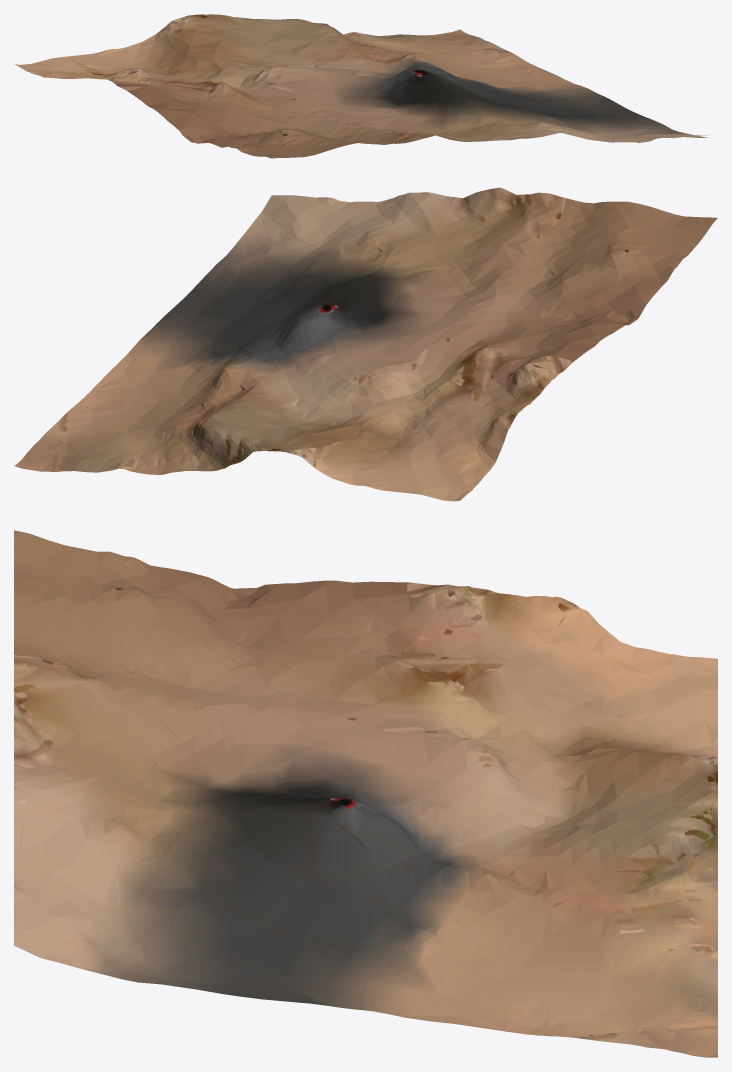
3 views of the same model, one above another, from view 1: azimuth 30°, elevation 25°; view 2: azimuth 150°, elevation 25°; view 3: azimuth 270°, elevation 25° (orthographic). The views are drawn at different scales.
Bounding box in the file's own units: 1.04 × 0.3778 × 1.04.
3 materials, 3 textured.
